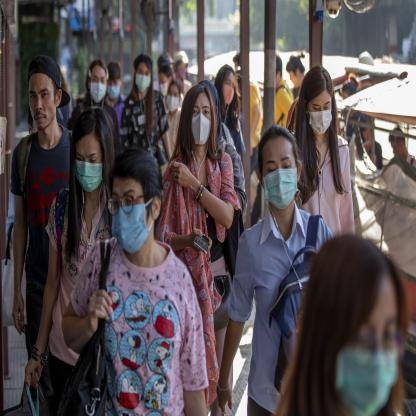Not_Wearing_Mask: (29, 84, 55, 129)
Wearing_Mask: (333, 310, 400, 412), (110, 187, 150, 254), (262, 153, 298, 210), (74, 149, 103, 193), (308, 99, 333, 137), (191, 103, 211, 146), (89, 73, 107, 103), (220, 76, 235, 106), (134, 67, 150, 94), (166, 89, 180, 113), (106, 78, 120, 100), (158, 77, 168, 97)
